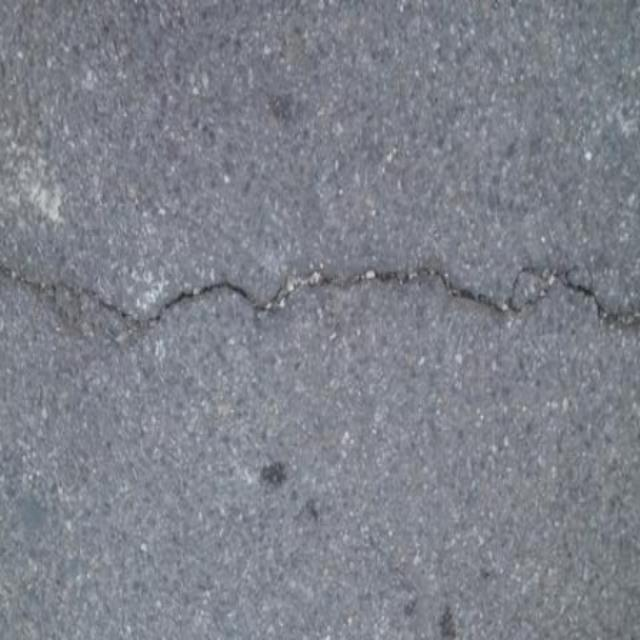GRIETA: (0, 264, 639, 330)
